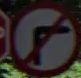Don't turn right: (17, 8, 68, 65)
